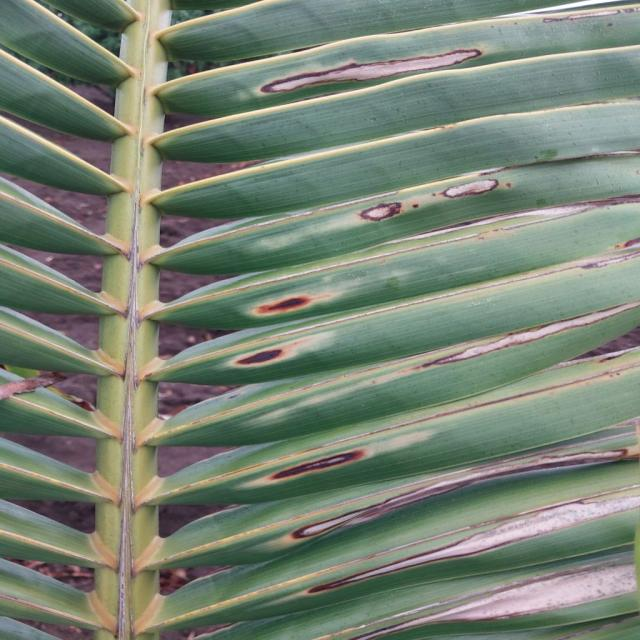gray leaf spot: (250, 436, 639, 628), (445, 278, 620, 400), (248, 33, 502, 110), (350, 166, 517, 237), (249, 276, 331, 330)
